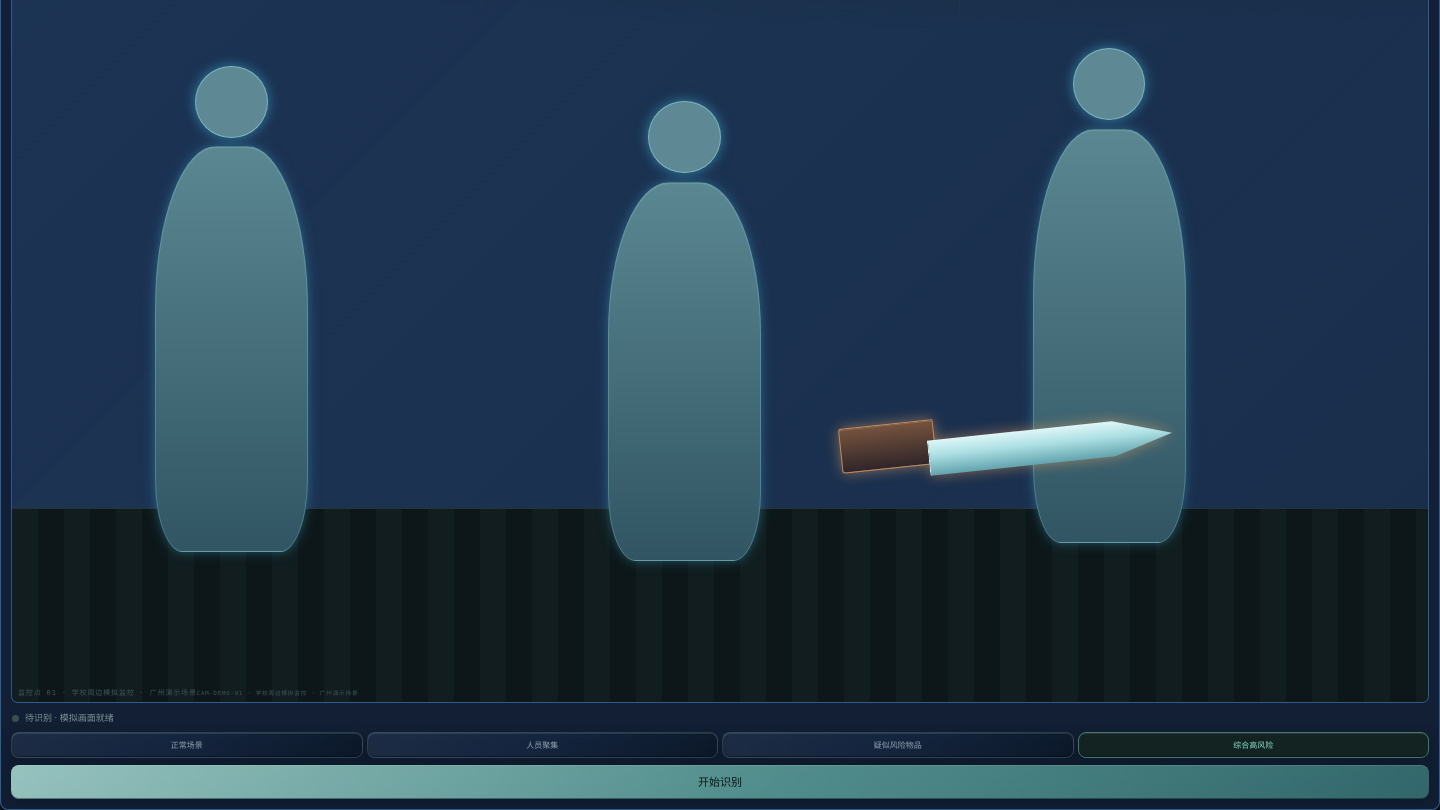
CVDetectionPanel › runs the detection animation, submits once and shows confidence + Chinese labels
The image size is (1440, 810).
(page scrolled)
Click the button "开始识别": (720, 782) [11,765,1429,799]
Wait 2000 ms
(page scrolled)
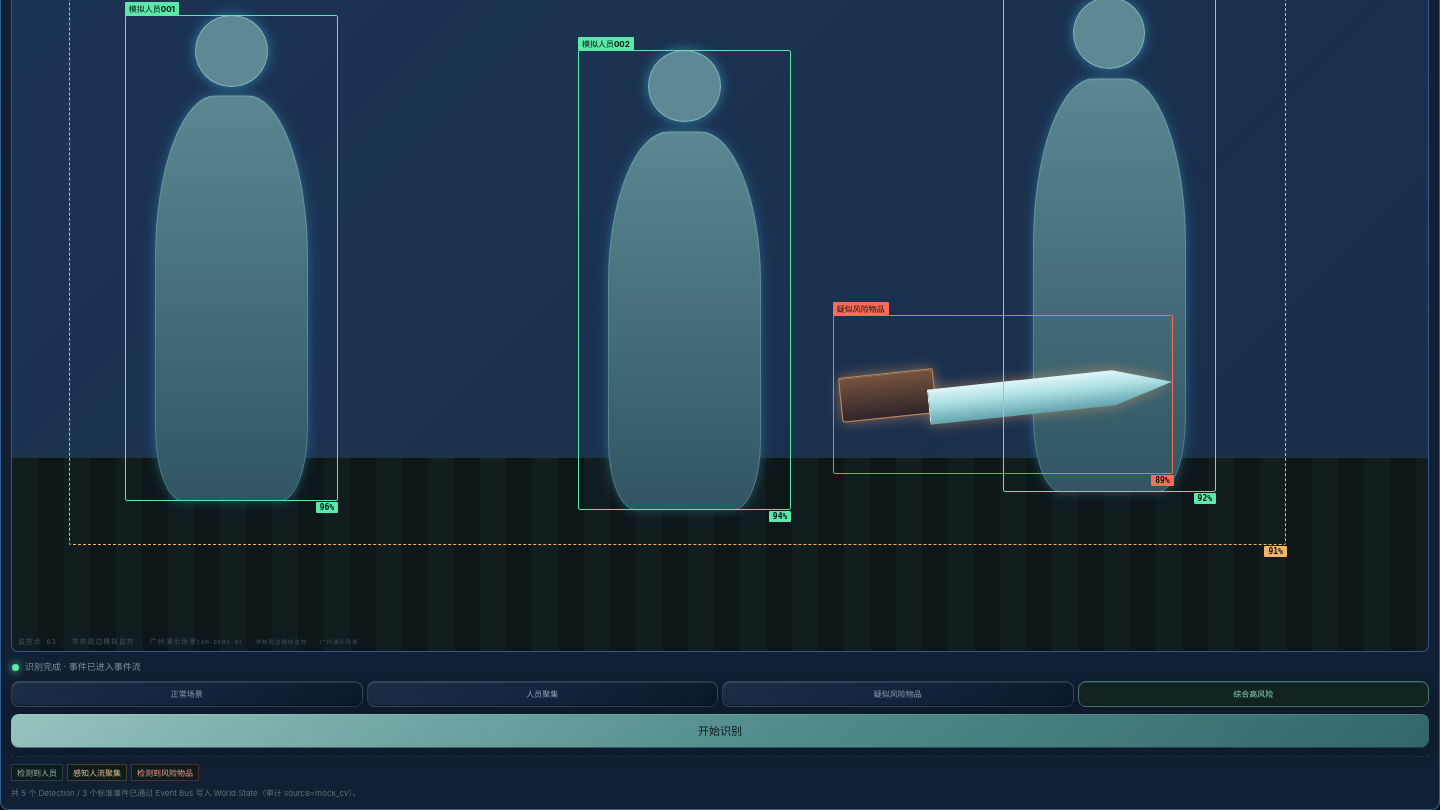
Expected: the element with class "cv-box-person" showing "模拟人员001 96%" is shown, [125,15,338,501]
Expected: the text "96%" is shown, [316,502,338,513]
Expected: the text "识别完成 · 事件已进入事件流" is shown, [12,661,141,672]
